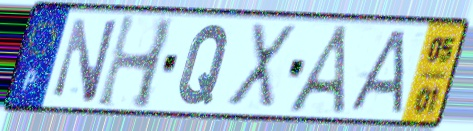A: (284, 22, 354, 118), (342, 28, 410, 117)
H: (93, 11, 179, 112)
N: (50, 16, 122, 106)
Q: (174, 21, 233, 108)
X: (223, 21, 300, 114)
